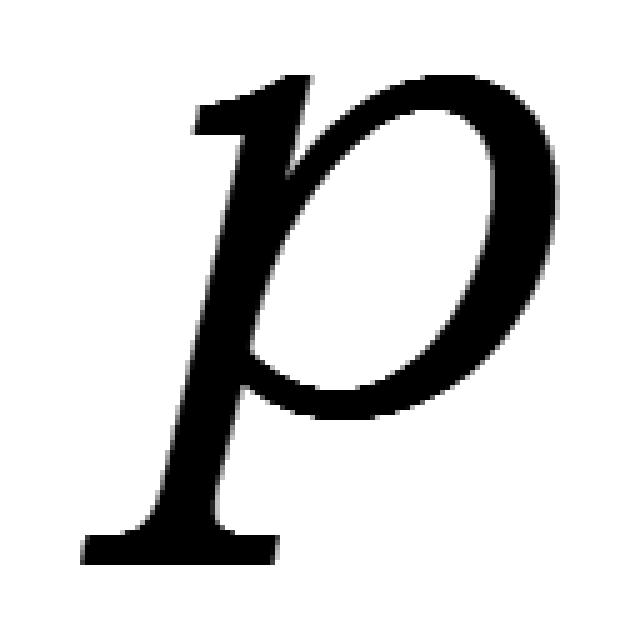P: (85, 75, 560, 570)
